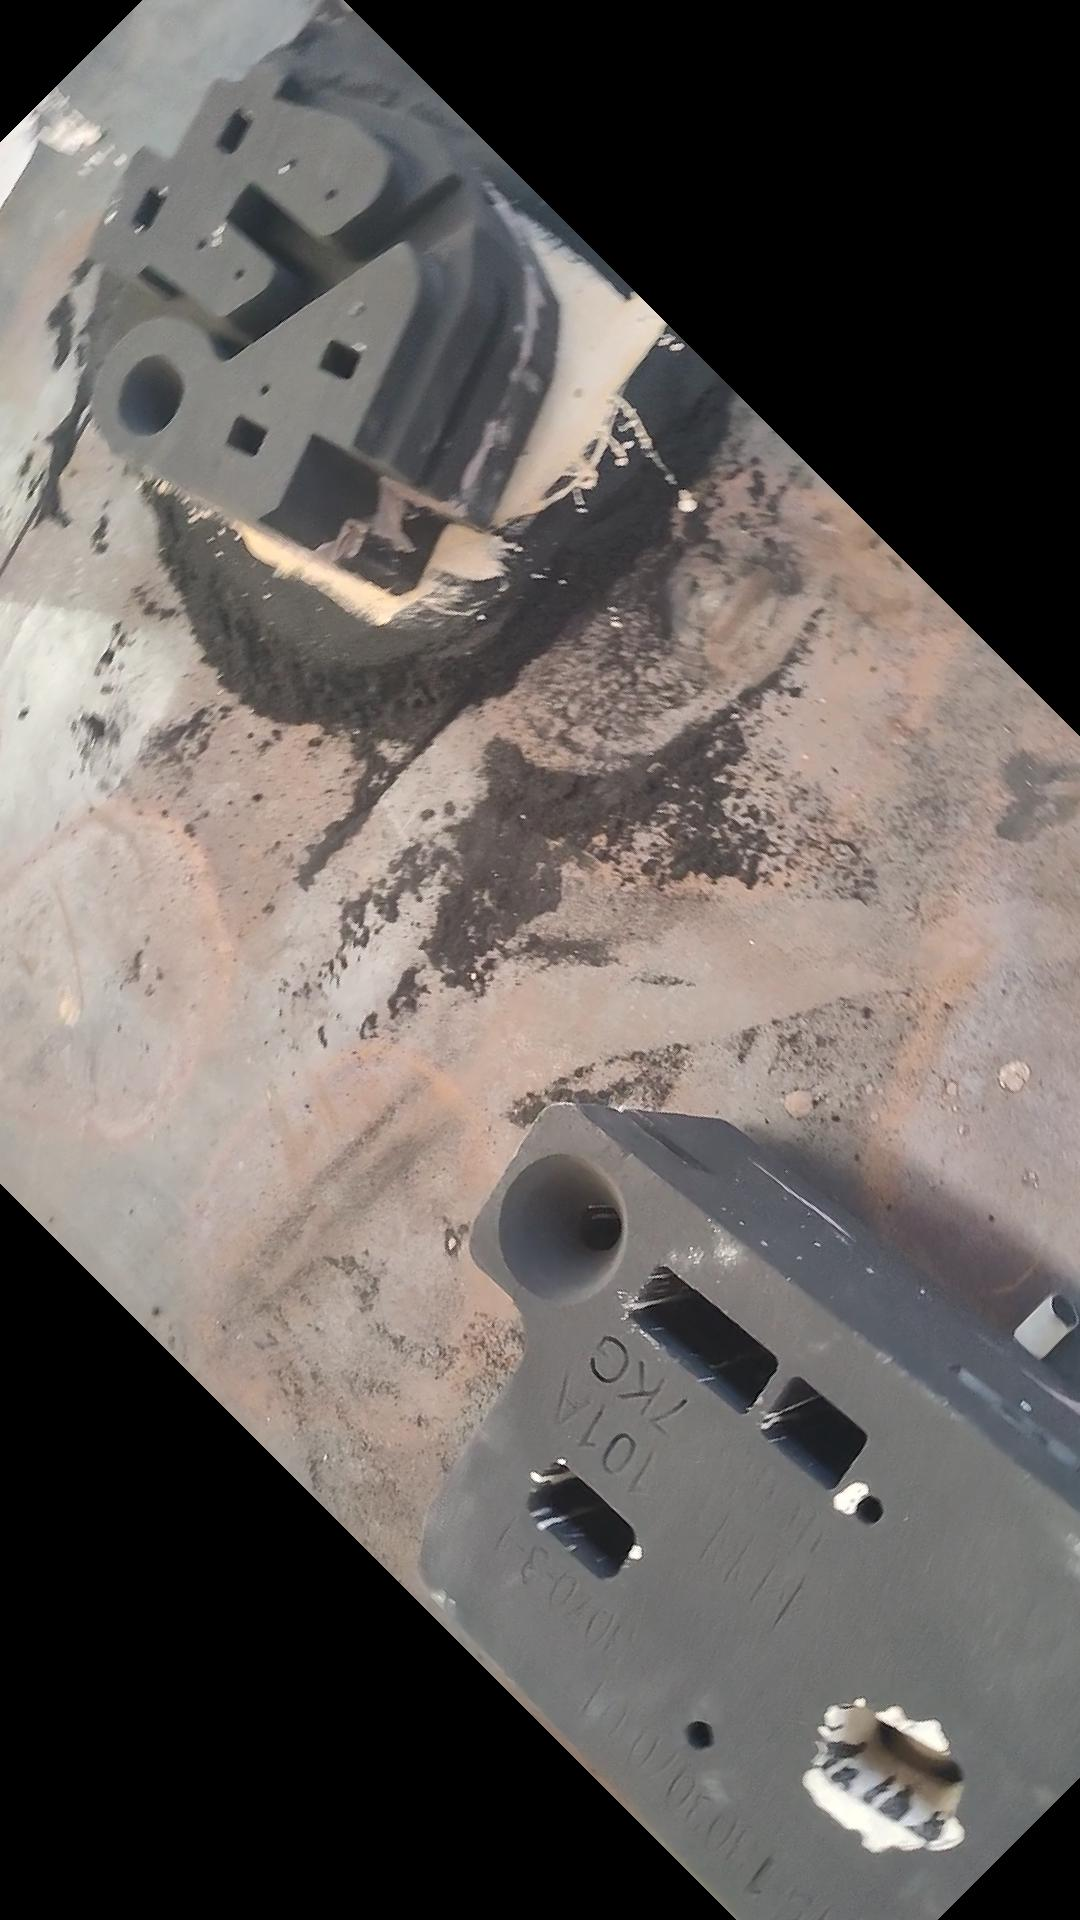pouring hole: (498, 1155, 625, 1300), (117, 357, 185, 435)
